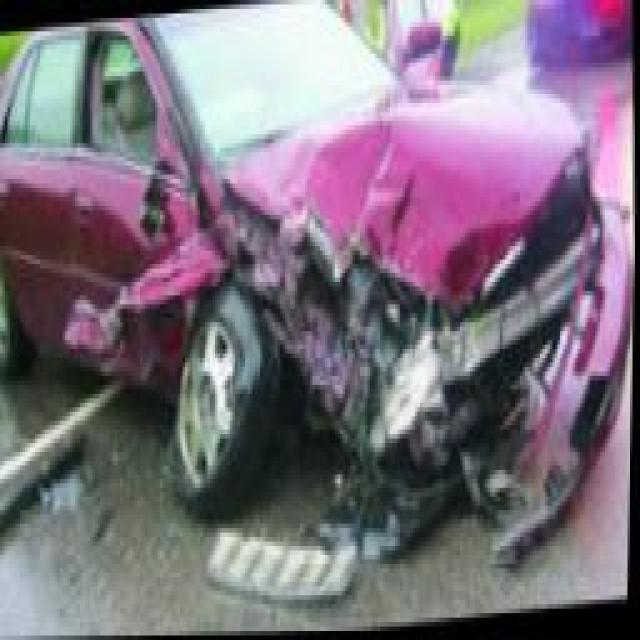Bonnet: (225, 81, 581, 303)
Bumper: (312, 194, 627, 540)
Door: (64, 23, 189, 343)
Fender: (199, 195, 339, 363)
Light: (326, 262, 435, 376)
